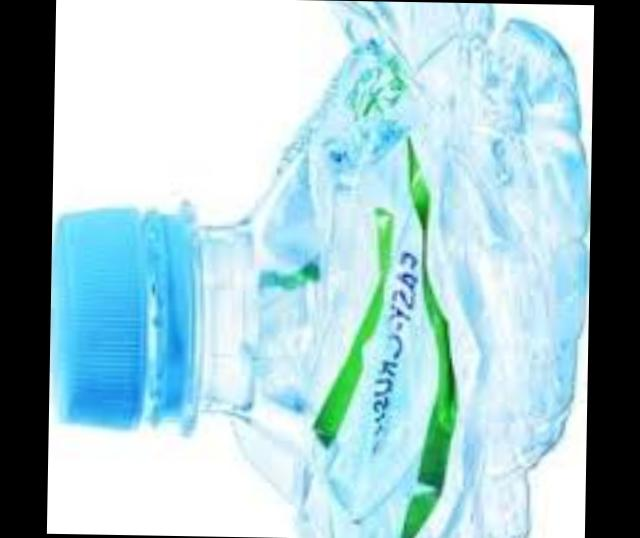plastic: (50, 0, 583, 538)
